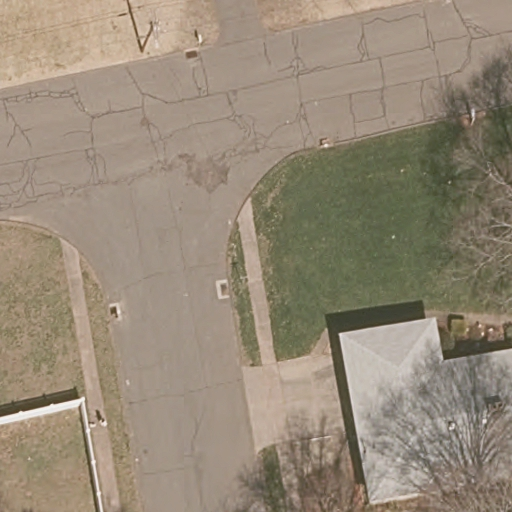DT: (140, 19, 160, 54)
